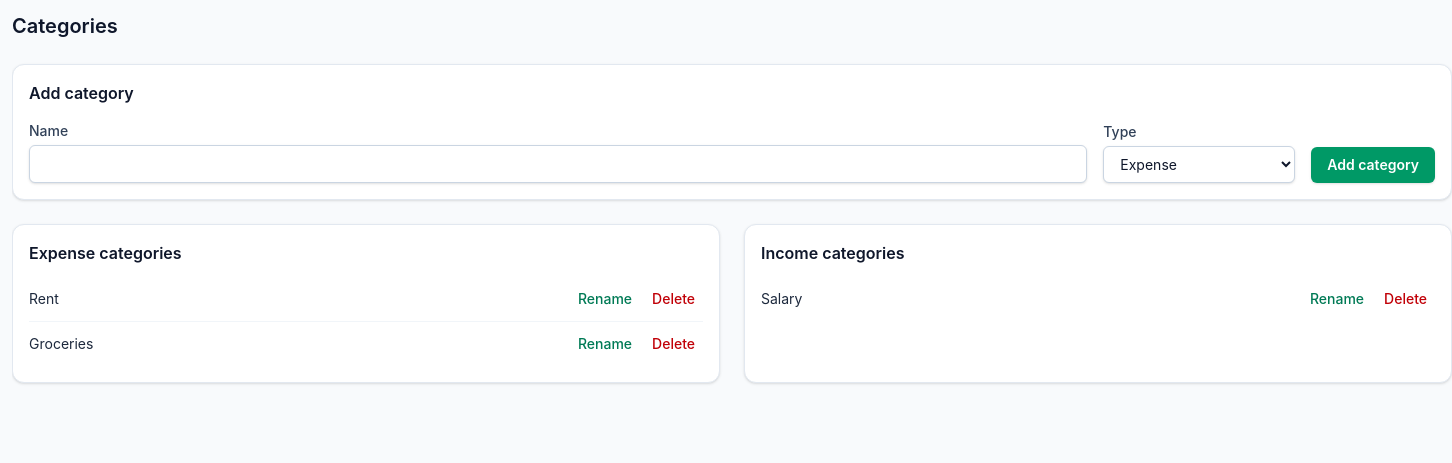
Test: CategoriesView › shows the 409 message for a duplicate category
Expected: the text "Groceries" is shown, [29, 334, 93, 354]
Type "Rent" into the field labelled "Name".
click(558, 164); type("Rent")  # box [29, 145, 1087, 183]
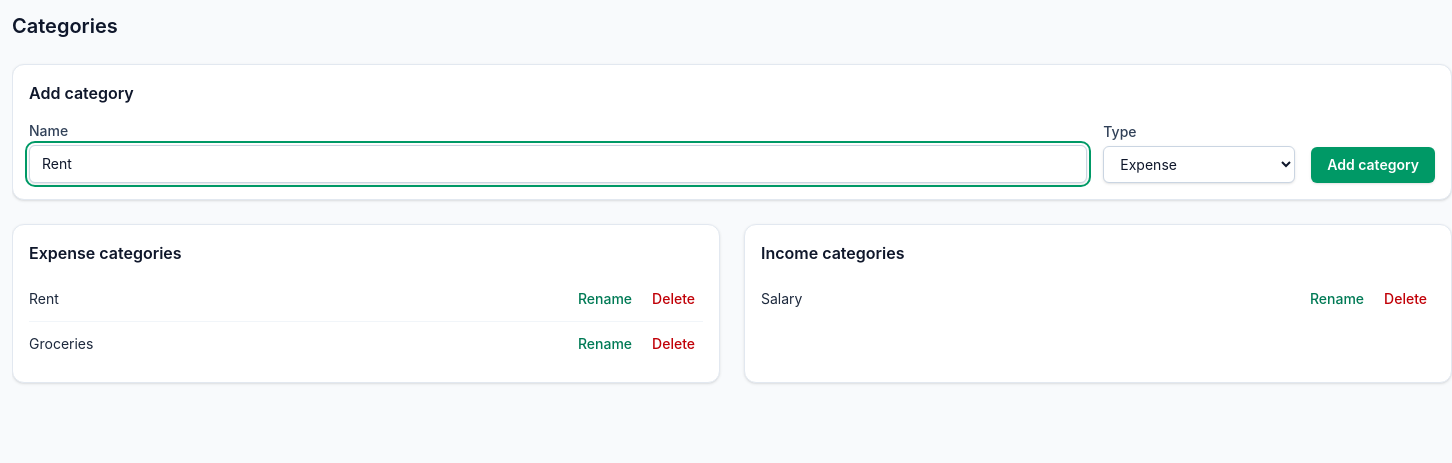
Click the button "Add category".
click(1373, 165)  # box [1311, 147, 1435, 183]
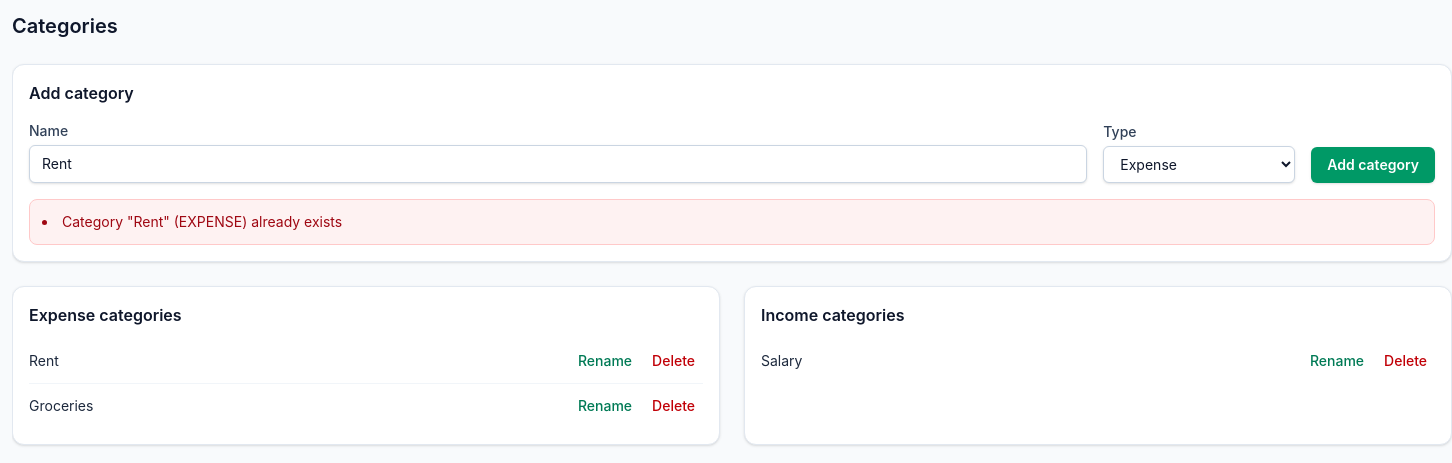
Expected: the message reads "Category \"Rent\" (EXPENSE) already exists", [62, 213, 342, 230]
